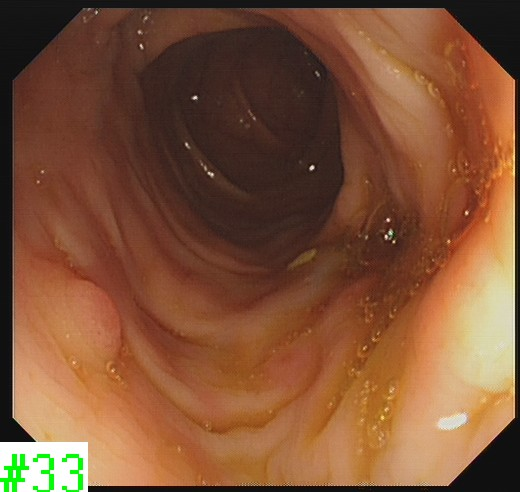adenoma: (58, 275, 125, 366)
